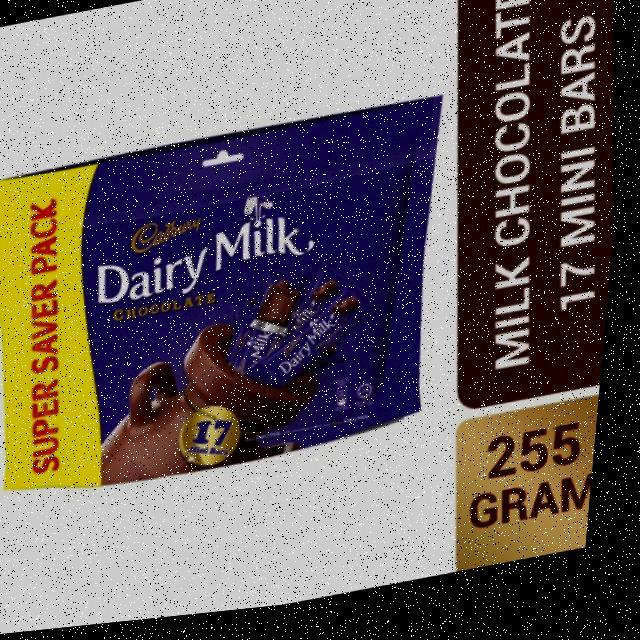cadbury_chocolate: (15, 117, 452, 495)
